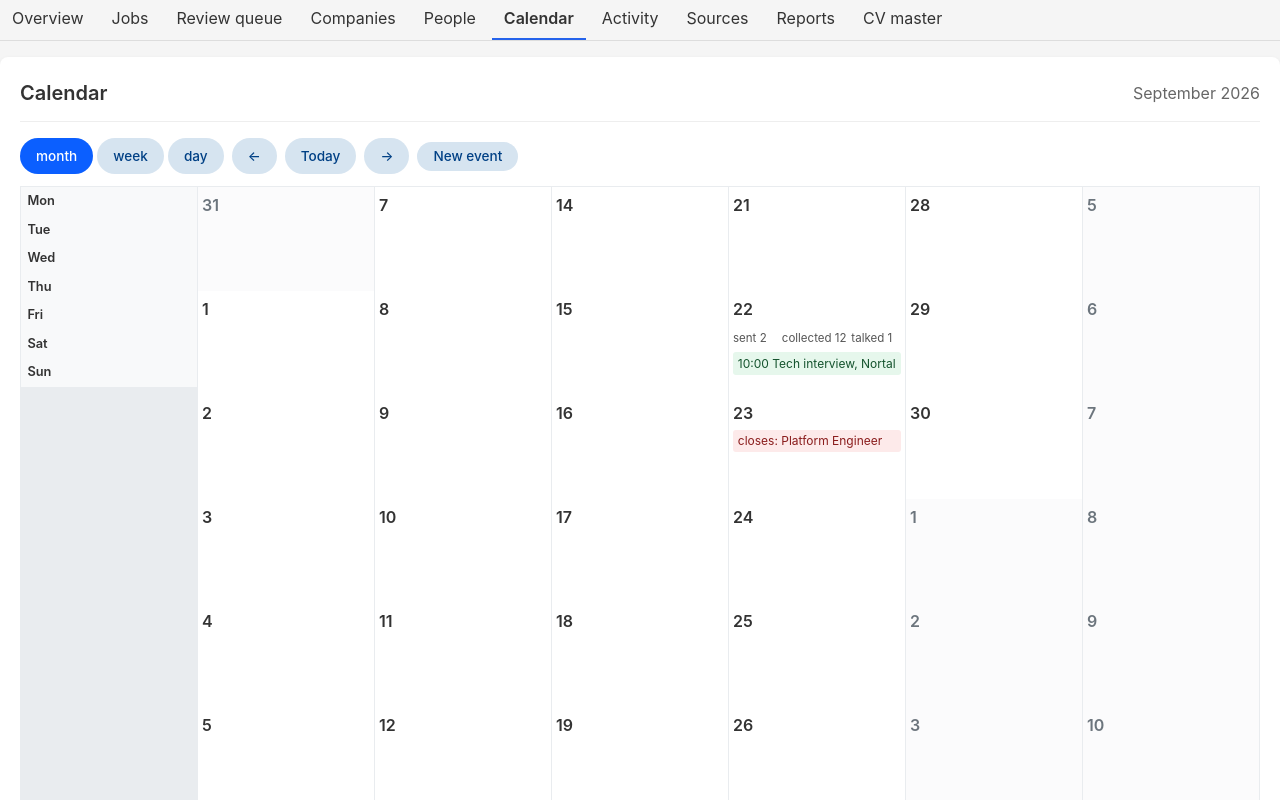
it: MasiCalendar › moves a month at a time and back to today without losing the view
Expected: the text "September 2026" is shown, [1133, 81, 1260, 106]
Click the button "→": (387, 156) [364, 138, 409, 174]
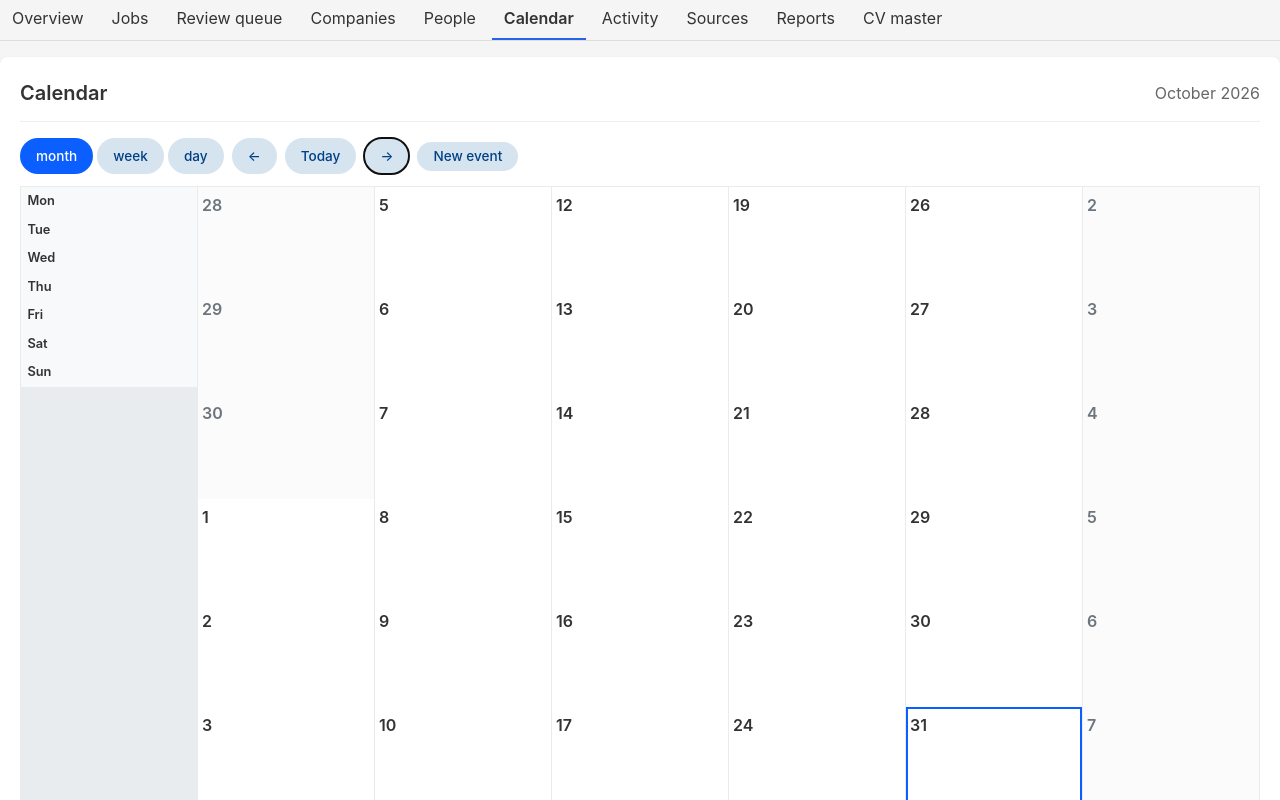
Now the text "October 2026" is shown, box [1155, 81, 1260, 106]
Click the button named "Earlier": (254, 156) [232, 138, 277, 174]
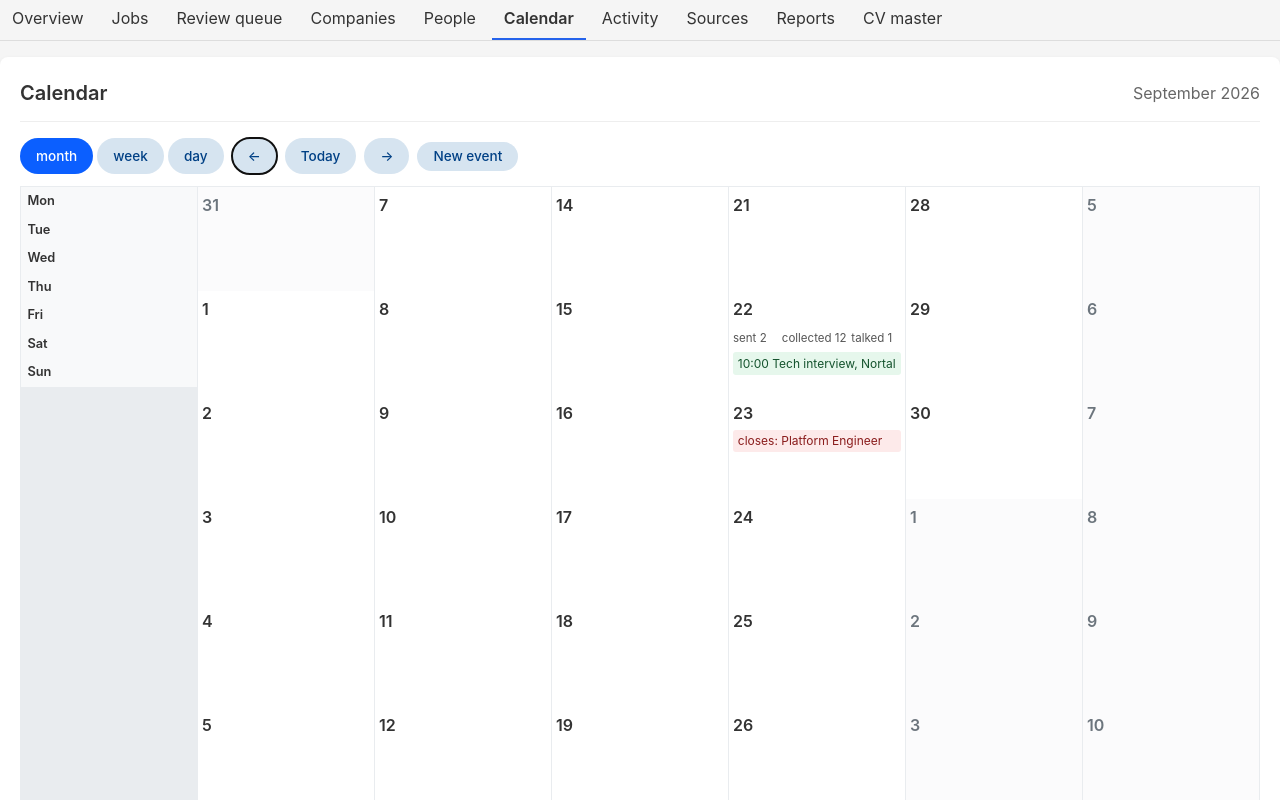
Now the text "September 2026" is shown, box [1133, 81, 1260, 106]
